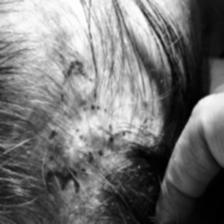Potentially Malignant Skin Tumors: (20, 54, 126, 217)
